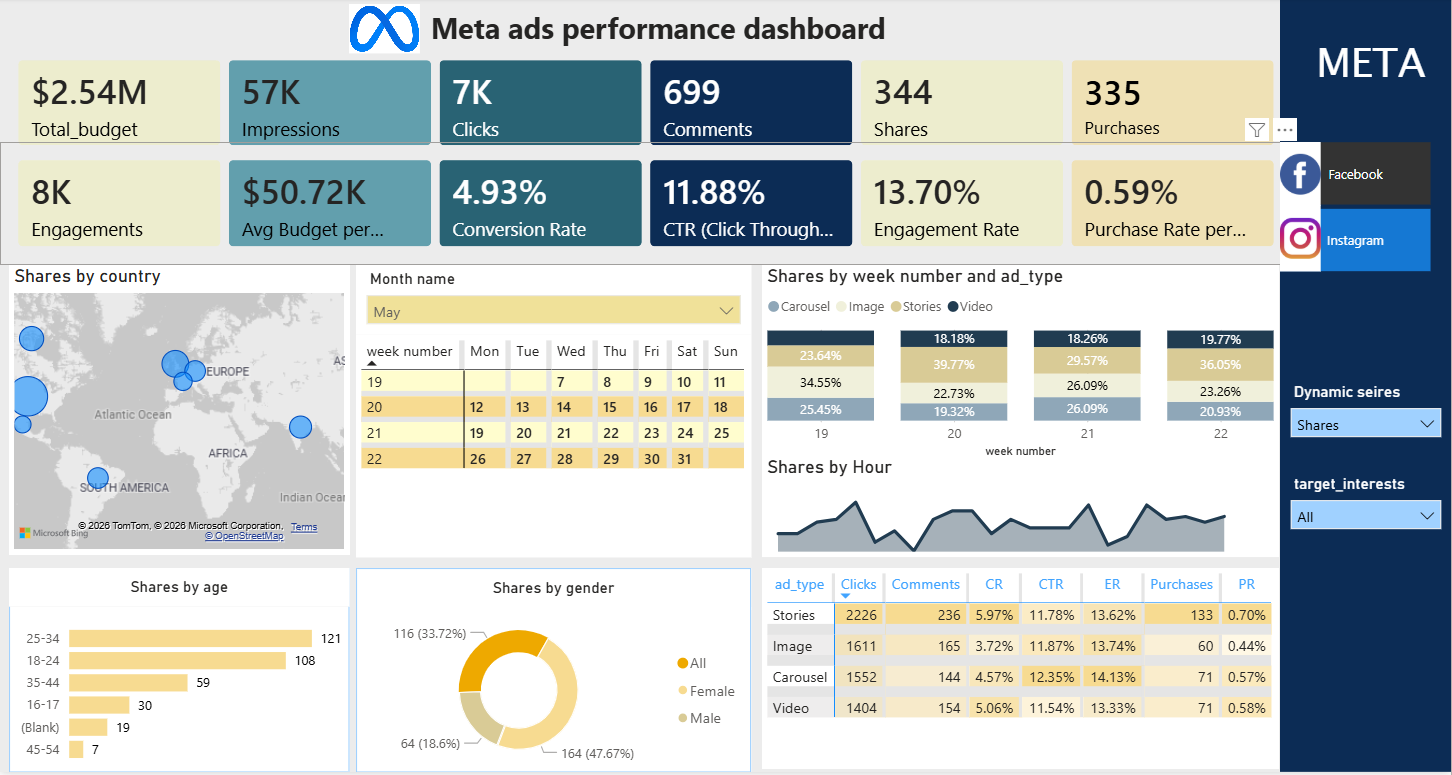

Layout of this report page (visuals, bound fields, positions):
{"tool":"powerbi","page":{"name":"Instagram","canvas":[1350,720],"ordinal":0},"visuals":[{"type":"shape","box":[1190.6,0,159.8,720.4],"z":0},{"type":"textbox","box":[8.3,3.7,1208.1,47.1],"z":1000},{"type":"actionButton","box":[325.1,5.3,66.3,46.3],"z":2000},{"type":"cardVisual","fields":{"Data":["_KPIS.Total_budget","_KPIS.Impressions","_KPIS.Clicks","_KPIS.Comments","_KPIS.Shares","_KPIS.Purchases"]},"box":[0,40.6,1207.2,113.6],"z":3000},{"type":"cardVisual","fields":{"Data":["_KPIS.Engagements","_KPIS.Avg Budget per Campaign","_KPIS.Conversion Rate","_KPIS.CTR (Click Through Rate)","_KPIS.Engagement Rate","_KPIS.Purchase Rate per Impression"]},"box":[0,133.9,1207.2,114.5],"z":4000},{"type":"donutChart","fields":{"Y":["_KPIS.Shares"],"Series":["ads.target_gender"]},"box":[331.6,566.2,367.6,154.2],"z":5000},{"type":"slicer","fields":{"Values":["Dynamic seires.Dynamic seires"]},"box":[1190.6,353.8,159.8,72],"z":6000},{"type":"map","fields":{"Size":["_KPIS.Shares"],"Category":["users.country"]},"box":[8.3,248.5,316.8,268.8],"z":7000},{"type":"card","fields":{"Values":["dynamic titles.Dynamic_Title"]},"box":[331.6,530.2,367.6,38.8],"z":8000},{"type":"pivotTable","fields":{"Columns":["Date_table.date name"],"Rows":["Date_table.week number"],"Values":["Min(Date_table.day)"]},"box":[331.6,313.1,367.6,206.9],"z":9000},{"type":"slicer","fields":{"Values":["Date_table.Month name"]},"box":[331.6,248.5,367.6,64.7],"z":10000},{"type":"barChart","fields":{"Y":["_KPIS.Shares"],"Category":["users.age_group"]},"box":[8.3,566.2,316.8,154.2],"z":11000},{"type":"hundredPercentStackedColumnChart","fields":{"Y":["_KPIS.Shares"],"Category":["Date_table.week number"],"Series":["ads.ad_type"]},"box":[709.4,248.5,481.2,183.8],"z":12000},{"type":"shape","box":[8.3,530.2,316.8,190.3],"z":13000},{"type":"pivotTable","fields":{"Rows":["ads.ad_type"],"Values":["_KPIS.Clicks","_KPIS.Comments","_KPIS.Conversion Rate","_KPIS.CTR (Click Through Rate)","_KPIS.Engagement Rate","_KPIS.Purchases","_KPIS.Purchase Rate per Impression"]},"box":[709.4,530.2,481.2,186.6],"z":14000},{"type":"card","fields":{"Values":["dynamic titles.Dynamic_age"]},"box":[8.3,530.2,316.8,36],"z":15000},{"type":"areaChart","fields":{"Y":["_KPIS.Shares"],"Category":["ad_events.Hour"]},"box":[709.4,425.8,481.2,94.2],"z":16000},{"type":"shape","box":[331.6,530.2,367.6,190.3],"z":17000},{"type":"slicer","fields":{"Values":["ads.target_interests"]},"box":[1190.6,438.7,159.8,78.5],"z":18000},{"type":"textbox","box":[1199.8,27.7,150.6,85.9],"z":19000},{"type":"slicer","fields":{"Values":["ads.ad_platform"]},"box":[1149.9,118.2,200.4,148.7],"z":22000,"group":"g1"},{"type":"actionButton","box":[1190.5,133.9,37.9,59.1],"z":23000,"group":"g1"},{"type":"actionButton","box":[1190.5,193,37.9,61.9],"z":23500,"group":"g1"},{"type":"group","id":"g1","title":"Group 1","box":[1149.9,118.2,200.4,148.7],"z":23501}]}

Visuals, with their boxes in screenshot pixels (x1, y1, x2, y2), scaled from the page's 1350x720 canvas onto the 1452x775 screenshot:
shape: 1281/0/1451/774
textbox: 9/4/1308/55
actionButton: 350/6/421/56
cardVisual - _KPIS.Total_budget x _KPIS.Impressions: 0/44/1298/166
cardVisual - _KPIS.Engagements x _KPIS.Avg Budget per Campaign: 0/144/1298/267
donutChart - _KPIS.Shares x ads.target_gender: 357/609/752/774
slicer - Dynamic seires.Dynamic seires: 1281/381/1451/458
map - _KPIS.Shares x users.country: 9/267/350/557
card - dynamic titles.Dynamic_Title: 357/571/752/612
pivotTable - Date_table.date name x Date_table.week number: 357/337/752/560
slicer - Date_table.Month name: 357/267/752/337
barChart - _KPIS.Shares x users.age_group: 9/609/350/774
hundredPercentStackedColumnChart - _KPIS.Shares x Date_table.week number: 763/267/1281/465
shape: 9/571/350/774
pivotTable - ads.ad_type x _KPIS.Clicks: 763/571/1281/772
card - dynamic titles.Dynamic_age: 9/571/350/609
areaChart - _KPIS.Shares x ad_events.Hour: 763/458/1281/560
shape: 357/571/752/774
slicer - ads.target_interests: 1281/472/1451/557
textbox: 1290/30/1451/122
slicer - ads.ad_platform: 1237/127/1451/287
actionButton: 1280/144/1321/208
actionButton: 1280/208/1321/274
"Group 1" group: 1237/127/1451/287
